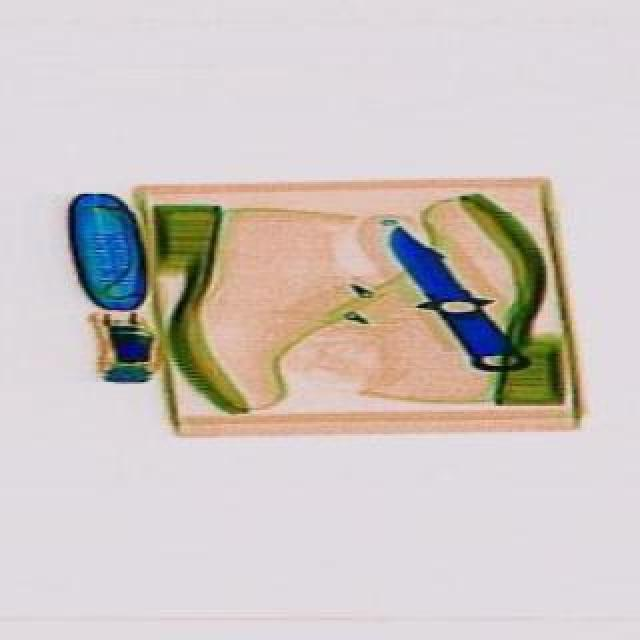knife: (372, 208, 544, 394)
